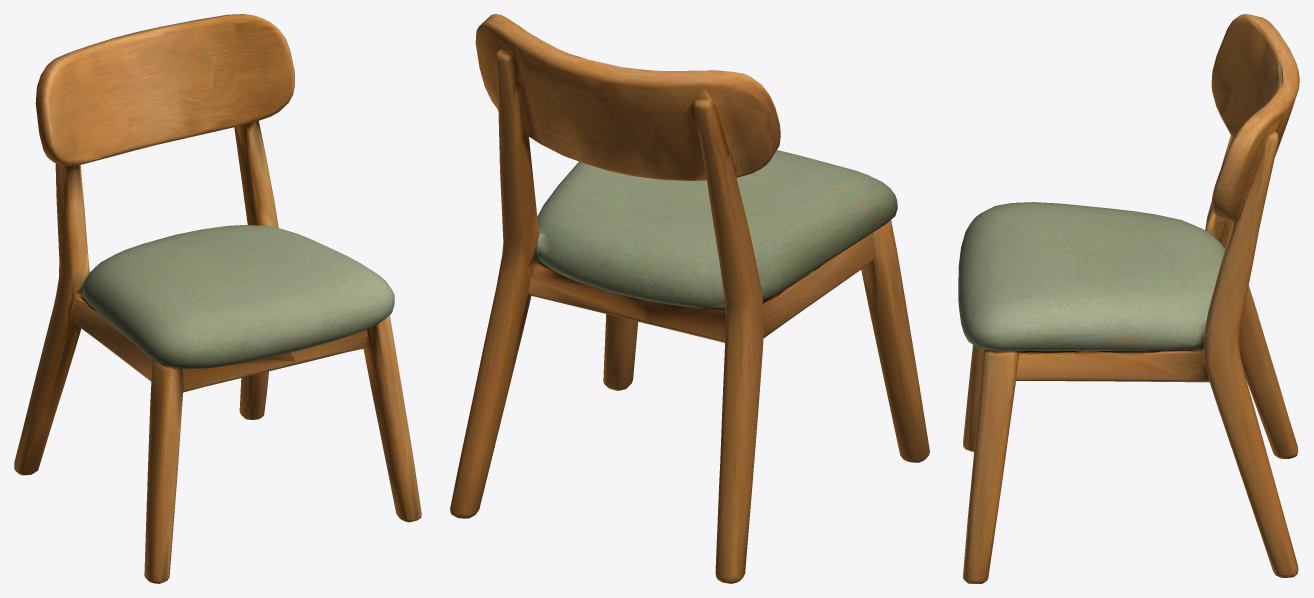
The model's file is cafe-chair.glb.
The picture shows the model from 3 angles, left to right: view 1: azimuth 30°, elevation 25°; view 2: azimuth 150°, elevation 25°; view 3: azimuth 270°, elevation 25°; orthographic projection. The views are drawn at different scales.
Visible parts, largest first — view 1: tripo_node_04e85fe1-7be5-4b2d-aa51-7d86aaad0dec; view 2: tripo_node_04e85fe1-7be5-4b2d-aa51-7d86aaad0dec; view 3: tripo_node_04e85fe1-7be5-4b2d-aa51-7d86aaad0dec.
Boxes of the visible parts, bbox=[...] form: tripo_node_04e85fe1-7be5-4b2d-aa51-7d86aaad0dec: bbox=[14, 14, 421, 583]; tripo_node_04e85fe1-7be5-4b2d-aa51-7d86aaad0dec: bbox=[450, 14, 929, 583]; tripo_node_04e85fe1-7be5-4b2d-aa51-7d86aaad0dec: bbox=[958, 14, 1299, 583].
Bounding box in the file's own units: 0.6118 × 0.8968 × 0.6166.
Materials: 1 (1 with a texture image).
